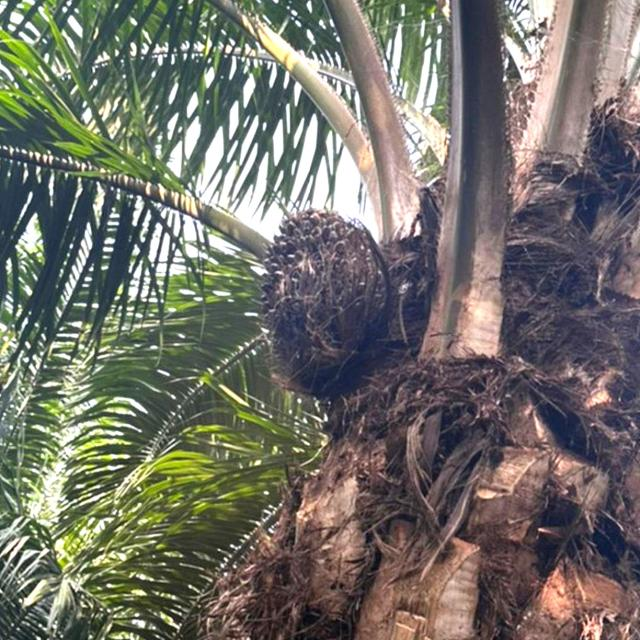almost: (256, 203, 392, 398)
